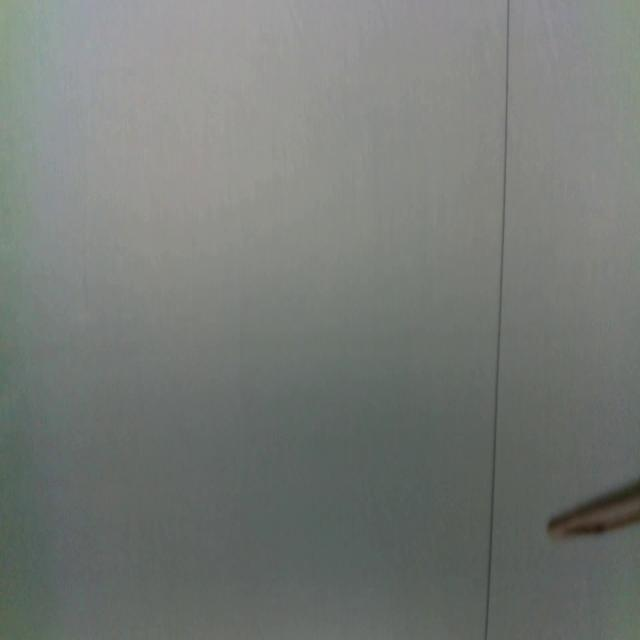crease: (482, 0, 511, 640)
